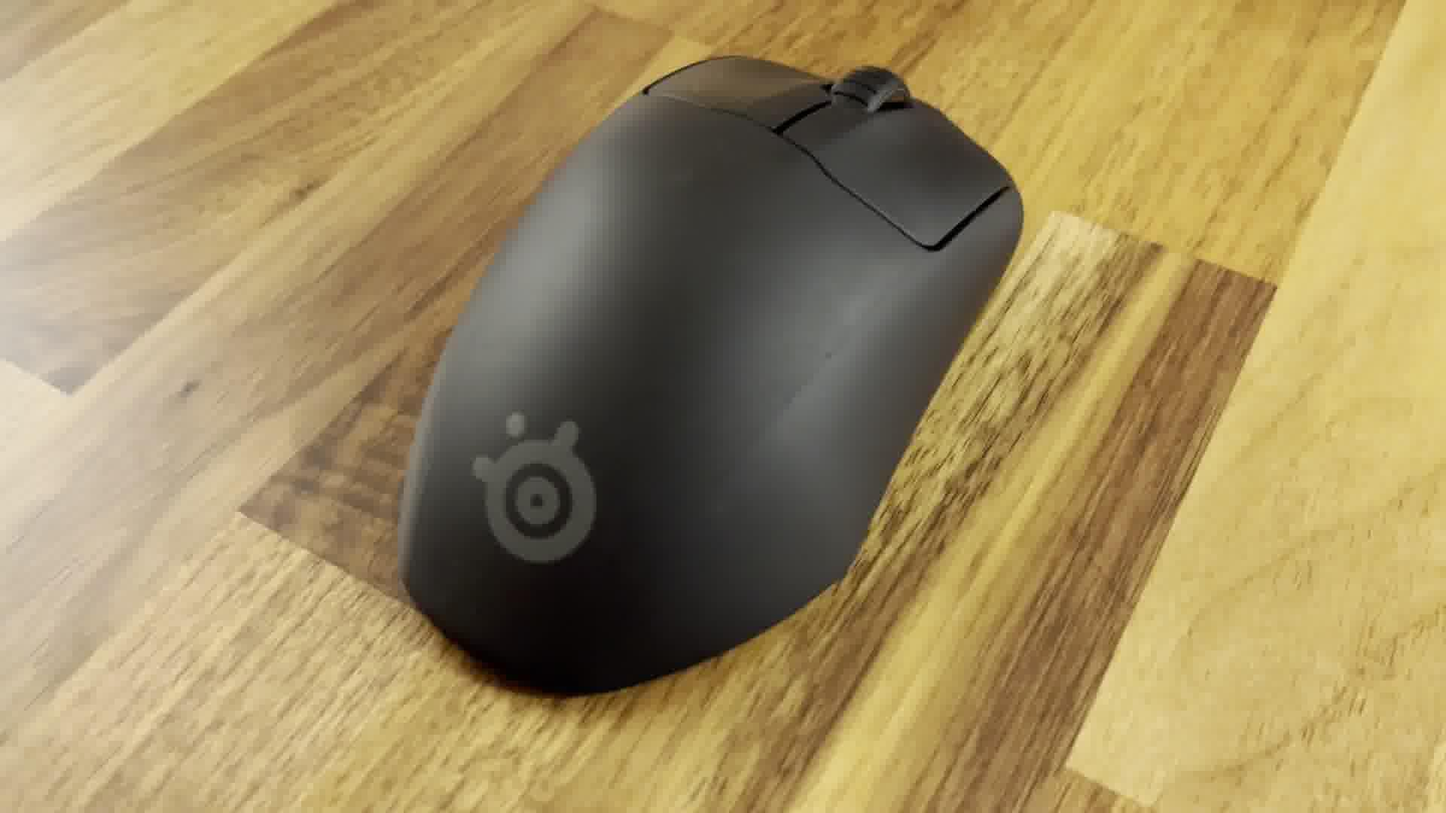steel-series: (397, 51, 1025, 700)
